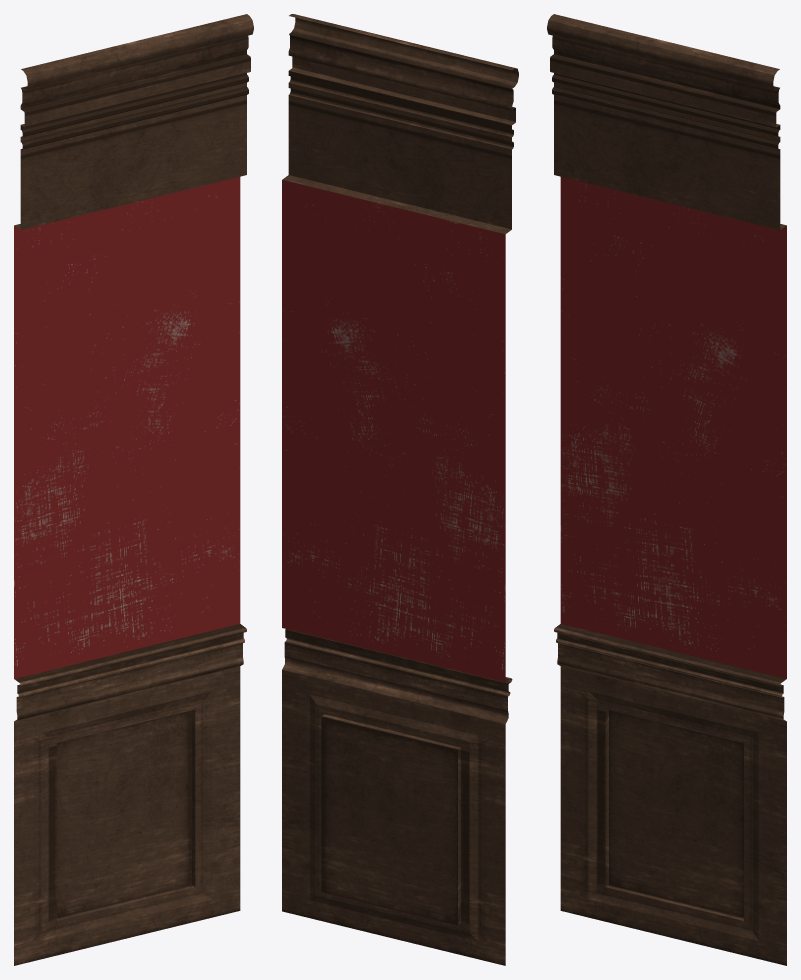
The model's file is SM_Wall_6_001.fbx.
3 renders of one model, left to right at view 1: azimuth 30°, elevation 25°; view 2: azimuth 150°, elevation 25°; view 3: azimuth 330°, elevation 25°, orthographic.
Parts seen in each view (by area): view 1: mur_type_1; view 2: mur_type_1; view 3: mur_type_1.
Boxes of the visible parts, x1=… form: mur_type_1: x1=14, y1=14, x2=253, y2=965; mur_type_1: x1=282, y1=14, x2=518, y2=965; mur_type_1: x1=547, y1=14, x2=786, y2=965.
Size of the model in its own units: 147 by 560 by 19.99.
